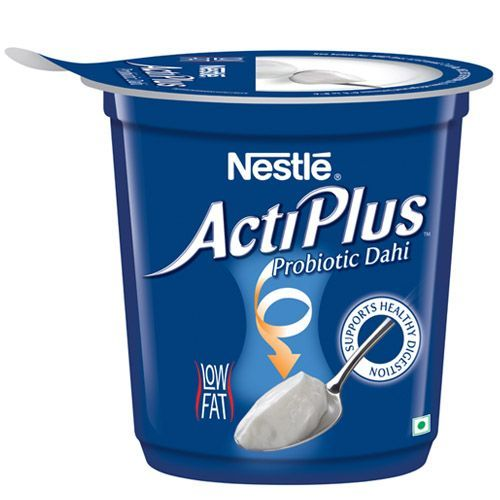VEG: (410, 415, 433, 437)
